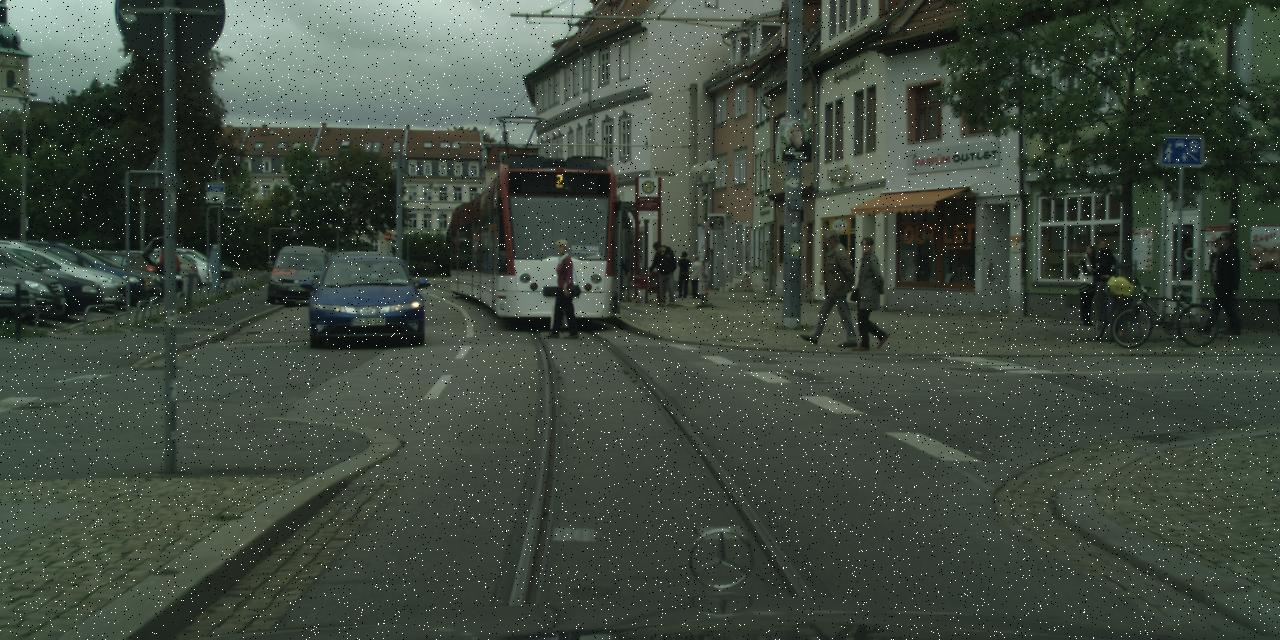ped: (807, 228, 854, 342), (848, 236, 893, 346), (1210, 231, 1251, 332), (543, 239, 583, 337), (1200, 237, 1238, 332), (1084, 239, 1118, 324), (1072, 244, 1105, 325), (648, 241, 675, 307), (600, 243, 626, 307), (157, 242, 177, 292), (674, 252, 692, 296), (688, 255, 704, 298), (632, 267, 648, 307)
